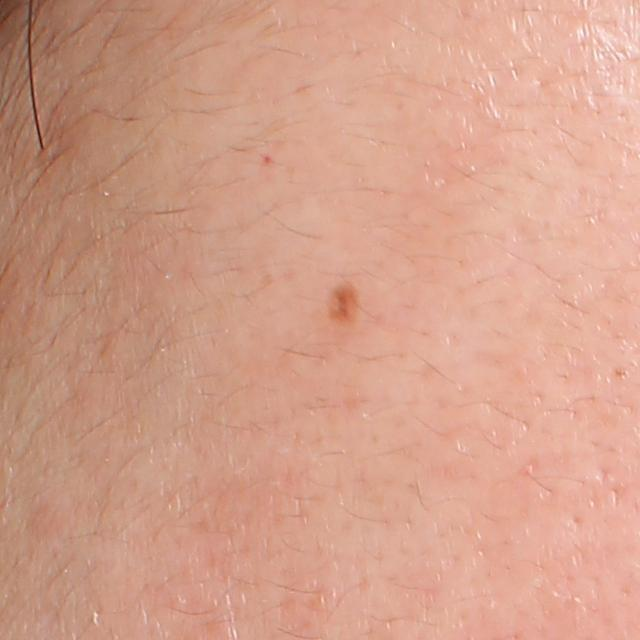nevus: (327, 279, 364, 329)
